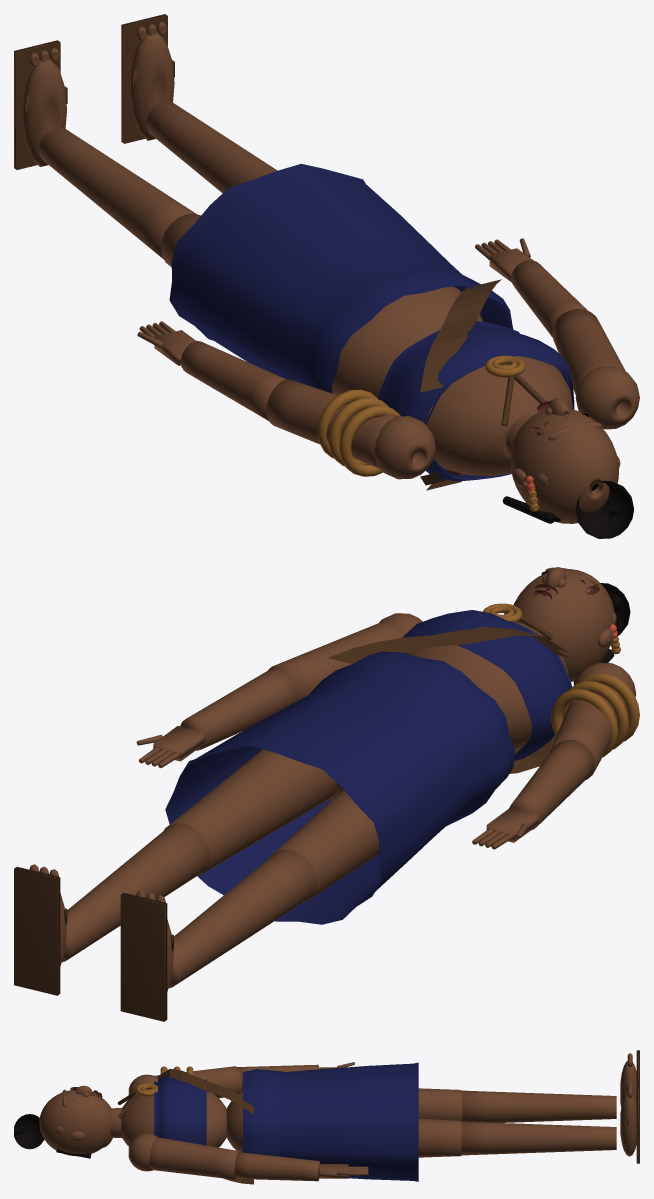
Rendered from ADANNA_AD03_V6_FACEPOC.obj.
3 views of the same model, one above another, from view 1: azimuth 30°, elevation 25°; view 2: azimuth 150°, elevation 25°; view 3: azimuth 270°, elevation 25° (orthographic). The views are drawn at different scales.
Parts seen in each view (by area): view 1: skirt_wrap_indigo, shin_foot.L, neck_torso_upper, head, shin_foot.R, wrap_top_indigo, upperarm.L, pelvis_lower, upperarm.R, forearm_hand.L, forearm_hand.R, baldric_L_to_R (+8 smaller); view 2: skirt_wrap_indigo, thigh.R, shin_foot.L, shin_foot.R, wrap_top_indigo, head, forearm_hand.R, sandal.L, sandal.R, thigh.L, forearm_hand.L, neck_torso_upper (+7 smaller); view 3: skirt_wrap_indigo, shin_foot.R, shin_foot.L, head, upperarm.R, wrap_top_indigo, forearm_hand.R, neck_torso_upper, thigh.R, thigh.L, upperarm.L, baldric_L_to_R (+5 smaller).
Part boxes in pixels (x1,y1,x2,y2): skirt_wrap_indigo: (169, 163, 513, 393); shin_foot.L: (22, 48, 196, 259); neck_torso_upper: (426, 356, 573, 475); head: (506, 405, 620, 523); shin_foot.R: (130, 21, 277, 193); wrap_top_indigo: (378, 321, 574, 481); upperarm.L: (266, 379, 435, 479); pelvis_lower: (331, 286, 483, 397); upperarm.R: (552, 309, 639, 429); forearm_hand.L: (137, 321, 286, 420); forearm_hand.R: (475, 238, 587, 337); baldric_L_to_R: (420, 279, 501, 490); skirt_wrap_indigo: (165, 651, 514, 924); thigh.R: (163, 749, 336, 875); shin_foot.L: (136, 849, 316, 991); shin_foot.R: (29, 823, 209, 965); wrap_top_indigo: (402, 610, 572, 760); head: (513, 569, 616, 681); forearm_hand.R: (136, 667, 296, 768); sandal.L: (120, 893, 173, 1021); sandal.R: (14, 867, 67, 995); thigh.L: (270, 789, 379, 901); forearm_hand.L: (472, 739, 594, 849); neck_torso_upper: (404, 622, 568, 749); skirt_wrap_indigo: (243, 1062, 418, 1181); shin_foot.R: (461, 1084, 636, 1156); shin_foot.L: (461, 1053, 636, 1122); head: (39, 1090, 122, 1156); upperarm.R: (128, 1133, 240, 1179); wrap_top_indigo: (154, 1076, 206, 1145); forearm_hand.R: (235, 1152, 368, 1181); neck_torso_upper: (120, 1089, 226, 1147); thigh.R: (418, 1118, 461, 1157); thigh.L: (418, 1088, 462, 1120); upperarm.L: (128, 1066, 241, 1098); baldric_L_to_R: (158, 1068, 253, 1184).
Bounding box in the file's own units: 0.7784 × 0.3318 × 1.84.
